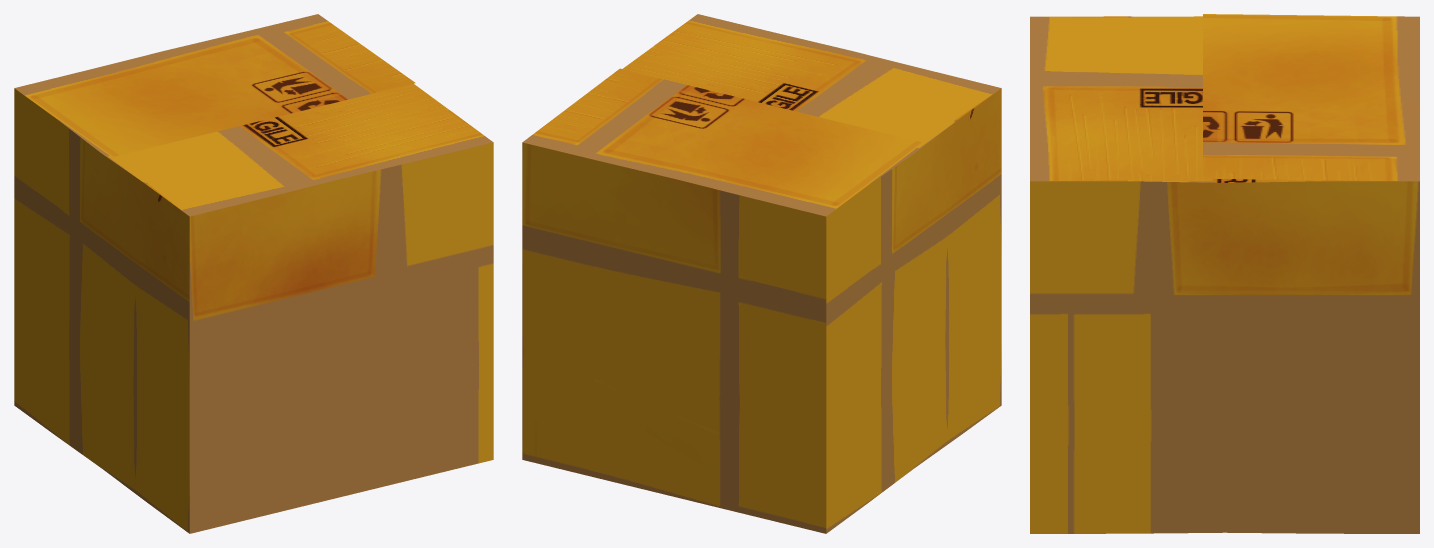
File: CardboardBox 1.fbx
3 renders of one model, left to right at view 1: azimuth 30°, elevation 25°; view 2: azimuth 150°, elevation 25°; view 3: azimuth 270°, elevation 25°, orthographic. The views are drawn at different scales.
Visible parts, largest first — view 1: Cube.007; view 2: Cube.007; view 3: Cube.007.
Part boxes in pixels (<box>): Cube.007: <box>14,14,493,533</box>; Cube.007: <box>522,14,1001,533</box>; Cube.007: <box>1030,14,1419,533</box>.
Size of the model in its own units: 100 by 101 by 100.
